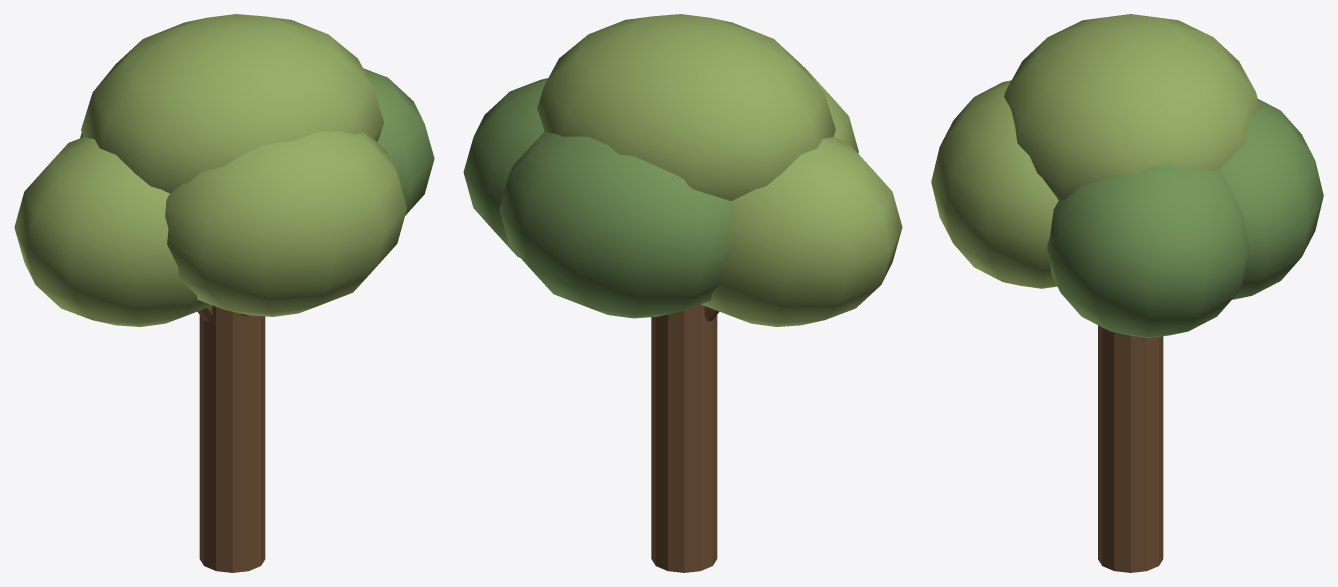
File: olive_tree.glb
The picture shows the model from 3 angles, left to right: view 1: azimuth 30°, elevation 25°; view 2: azimuth 150°, elevation 25°; view 3: azimuth 270°, elevation 25°; orthographic projection.
Visible parts, largest first — view 1: Olive canopy crown, Olive canopy.002, Olive canopy, Olive trunk, Olive canopy.001; view 2: Olive canopy crown, Olive canopy.003, Olive canopy, Olive trunk, Olive canopy.001, Olive canopy.002; view 3: Olive canopy crown, Olive canopy.001, Olive canopy.002, Olive trunk, Olive canopy.003.
Boxes of the visible parts, <box> form: Olive canopy crown: <box>81,14,383,193</box>; Olive canopy.002: <box>165,131,406,316</box>; Olive canopy: <box>14,137,212,326</box>; Olive trunk: <box>199,305,265,572</box>; Olive canopy.001: <box>363,68,434,215</box>; Olive canopy crown: <box>537,14,835,200</box>; Olive canopy.003: <box>499,131,732,318</box>; Olive canopy: <box>701,137,902,326</box>; Olive trunk: <box>651,304,717,572</box>; Olive canopy.001: <box>463,78,547,257</box>; Olive canopy.002: <box>804,67,858,153</box>; Olive canopy crown: <box>1004,14,1260,200</box>; Olive canopy.001: <box>1047,164,1249,338</box>; Olive canopy.002: <box>931,80,1058,288</box>; Olive trunk: <box>1098,325,1163,572</box>; Olive canopy.003: <box>1219,99,1323,299</box>.
Size of the model in its own units: 2.99 by 3.73 by 2.52.
